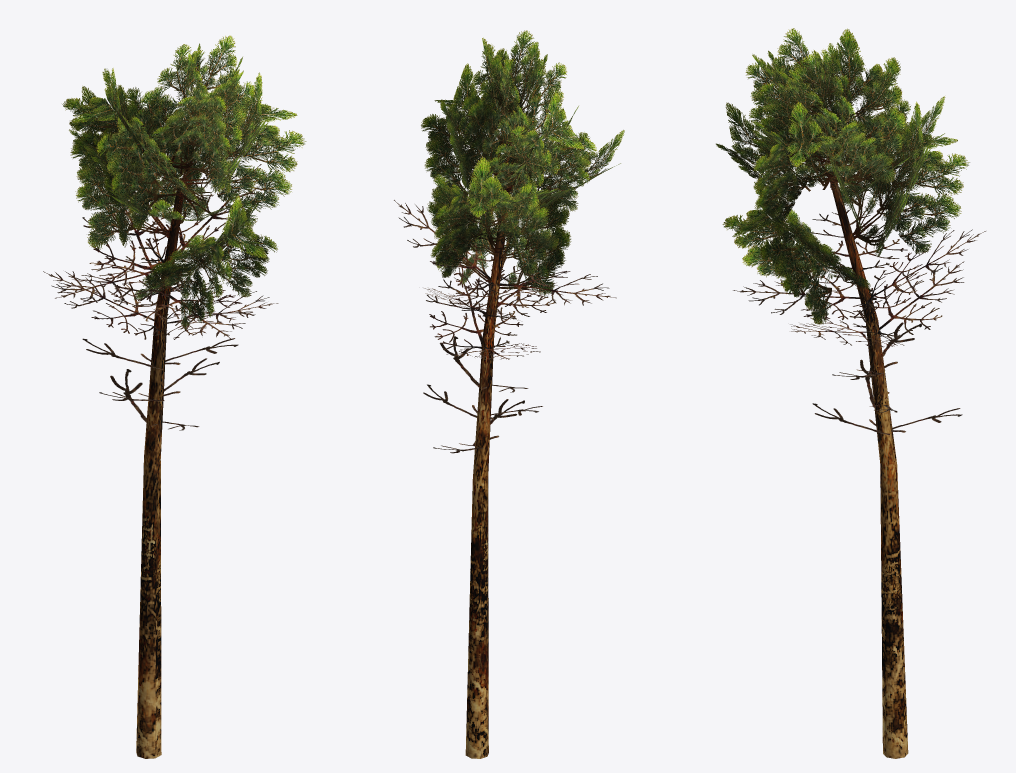
Rendered from pine-3.glb.
The picture shows the model from 3 angles, left to right: view 1: azimuth 30°, elevation 25°; view 2: azimuth 150°, elevation 25°; view 3: azimuth 270°, elevation 25°; orthographic projection. The views are drawn at different scales.
Parts seen in each view (by area): view 1: pine-3; view 2: pine-3; view 3: pine-3.
Boxes of the visible parts, left/top/right/bottom form: pine-3: left=43, top=35, right=306, bottom=758; pine-3: left=394, top=30, right=624, bottom=758; pine-3: left=716, top=28, right=985, bottom=758.
Bounding box in the file's own units: 7.11 × 19.73 × 7.85.
Materials: 2 (2 with a texture image).
